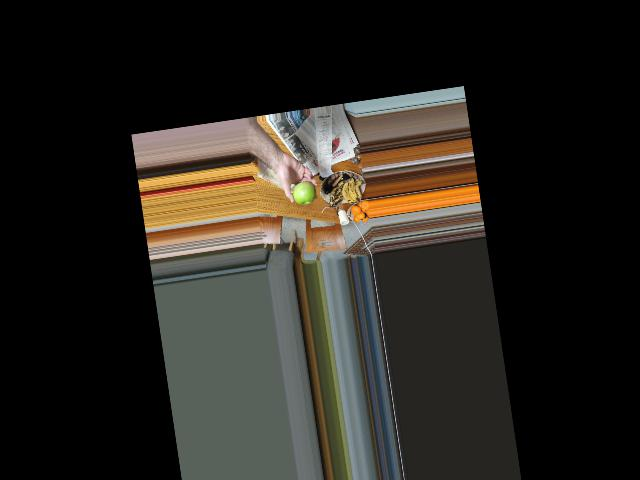apple: (287, 177, 316, 207)
